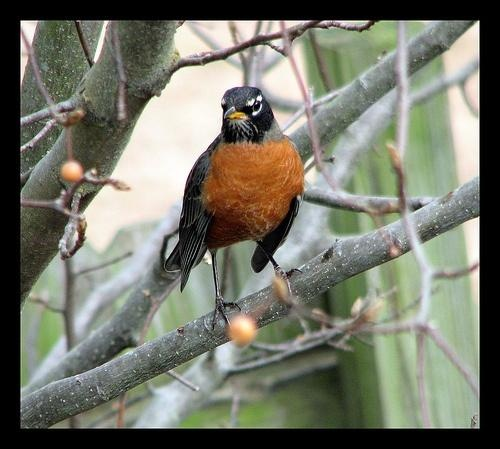bird: (164, 87, 306, 332)
